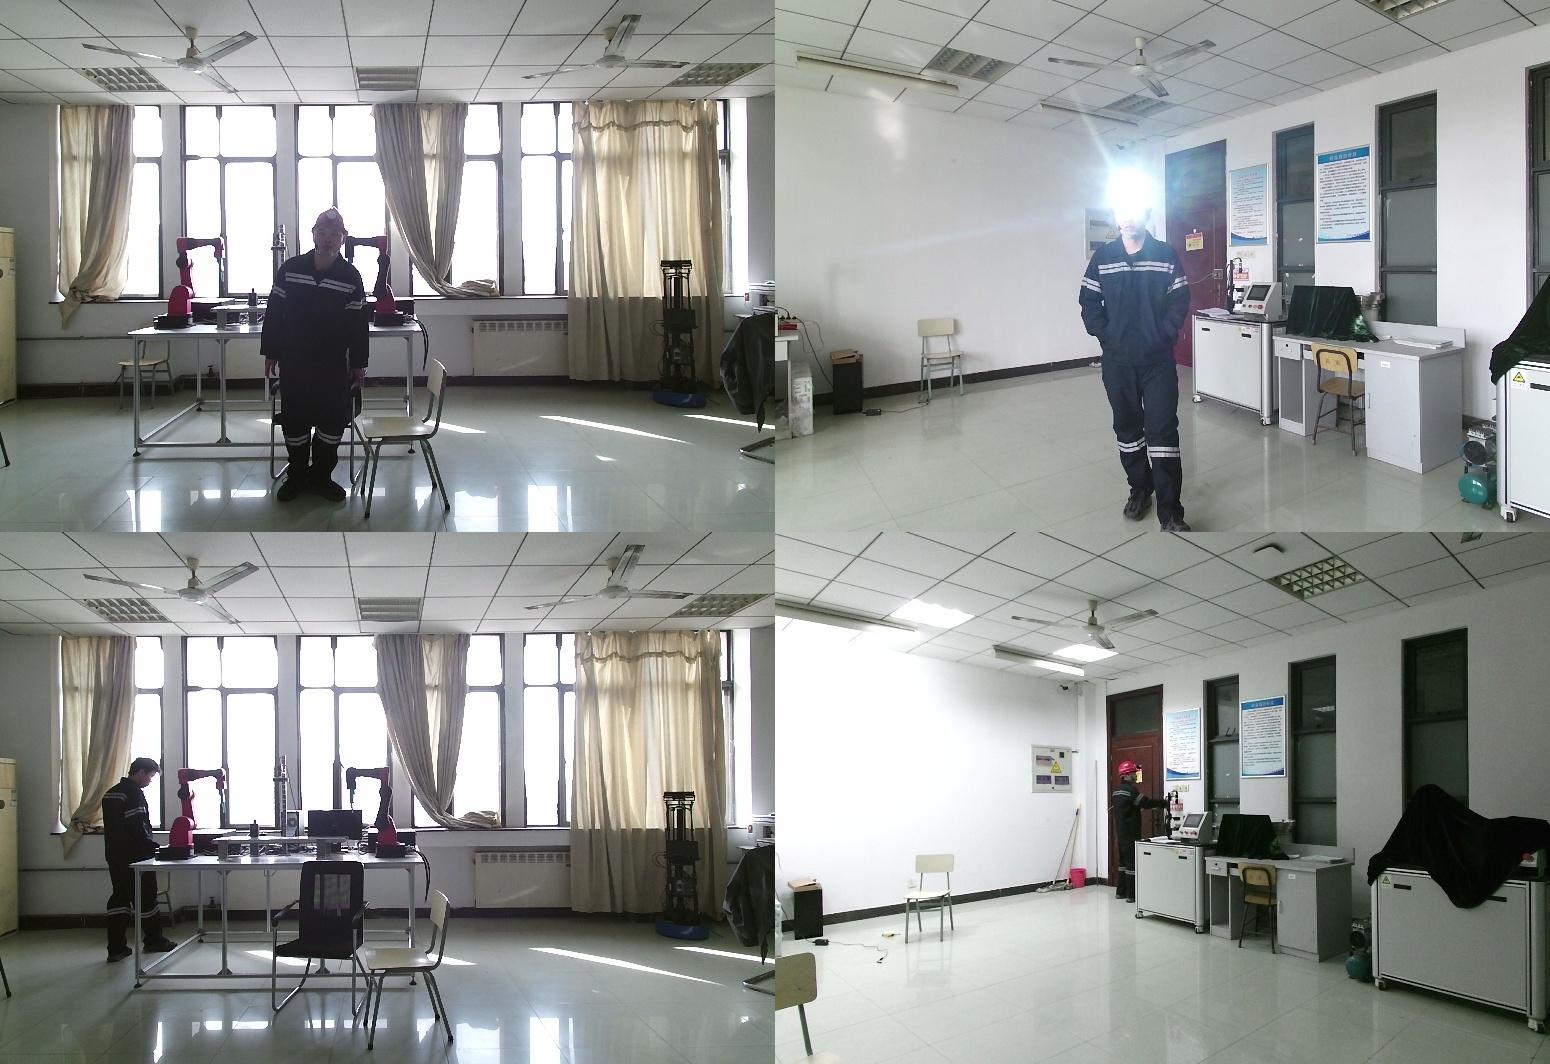person: (1078, 182, 1207, 532), (263, 208, 376, 501), (94, 757, 177, 963), (1106, 765, 1171, 906)
